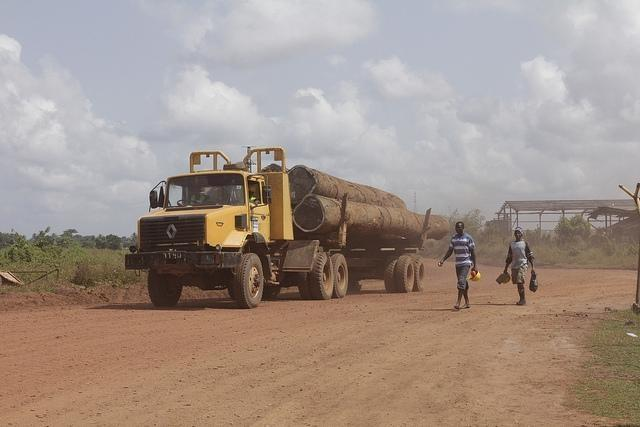truck: (124, 148, 451, 310)
